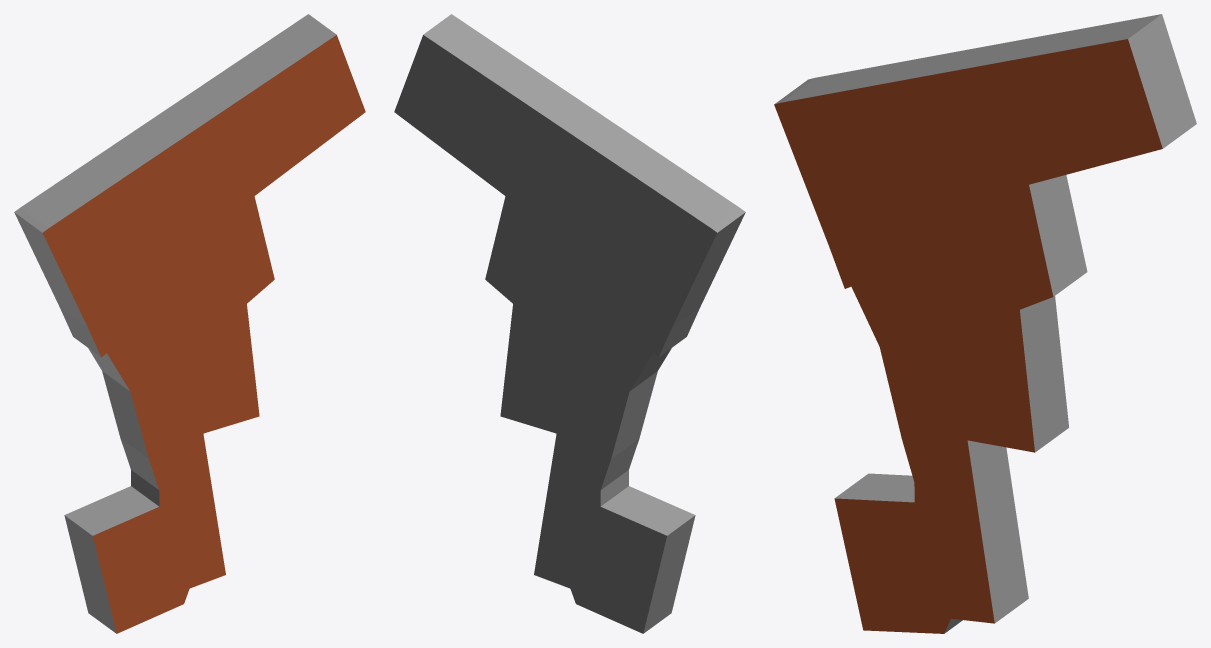
File: construction_7082_assumed_A_Casa_h6m.obj
3 views of the same model, side by side, from view 1: azimuth 30°, elevation 25°; view 2: azimuth 150°, elevation 25°; view 3: azimuth 330°, elevation 25° (orthographic). The views are drawn at different scales.
Visible parts, largest first — view 1: construction_7082_assumed_A_Casa; view 2: construction_7082_assumed_A_Casa; view 3: construction_7082_assumed_A_Casa.
Part boxes in pixels (x1,y1,x2,y2): construction_7082_assumed_A_Casa: (14,14,365,633); construction_7082_assumed_A_Casa: (394,14,745,633); construction_7082_assumed_A_Casa: (774,14,1196,633).
Size of the model in its own units: 39.48 by 63.66 by 6.
